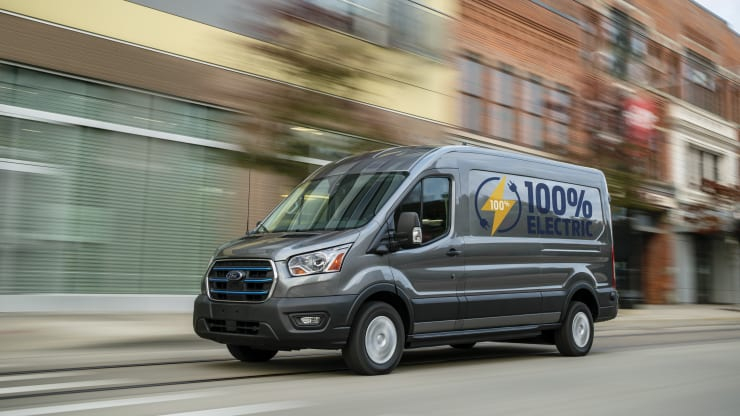van: (190, 144, 622, 380)
